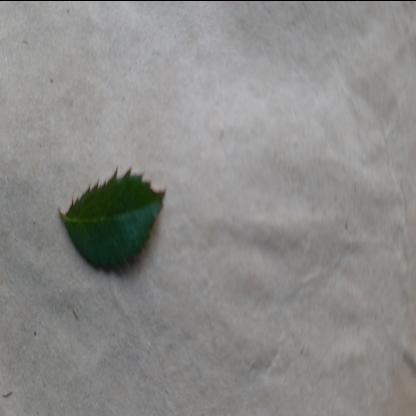normal: (66, 156, 168, 279)
